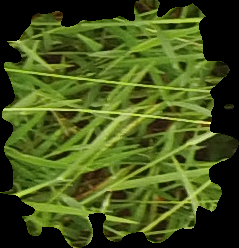grass: (1, 1, 238, 246)
